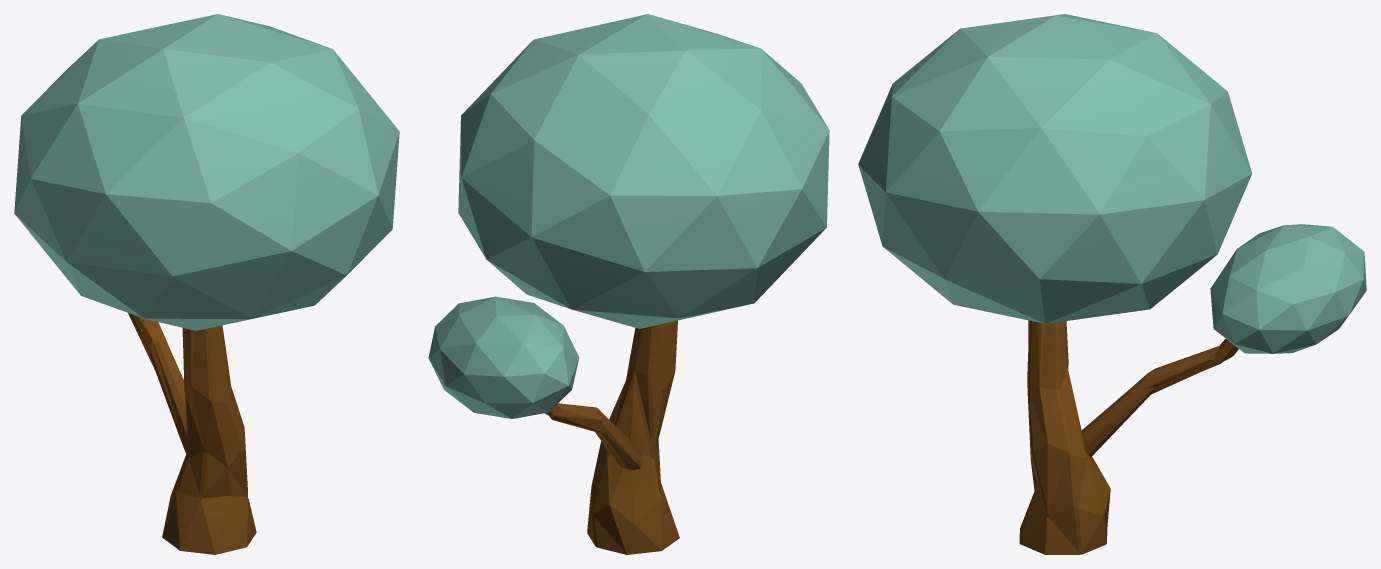
The model's file is tree_fruit.glb.
3 renders of one model, left to right at view 1: azimuth 30°, elevation 25°; view 2: azimuth 150°, elevation 25°; view 3: azimuth 270°, elevation 25°, orthographic.
Parts seen in each view (by area): view 1: Poplar Tree_1_AA; view 2: Poplar Tree_1_AA; view 3: Poplar Tree_1_AA.
Part boxes in pixels (x1,y1,x2,y2): Poplar Tree_1_AA: (14,14,399,554); Poplar Tree_1_AA: (428,14,829,554); Poplar Tree_1_AA: (858,14,1366,554).
Size of the model in its own units: 2.24 by 3.19 by 2.96.
1 material, 1 textured.
